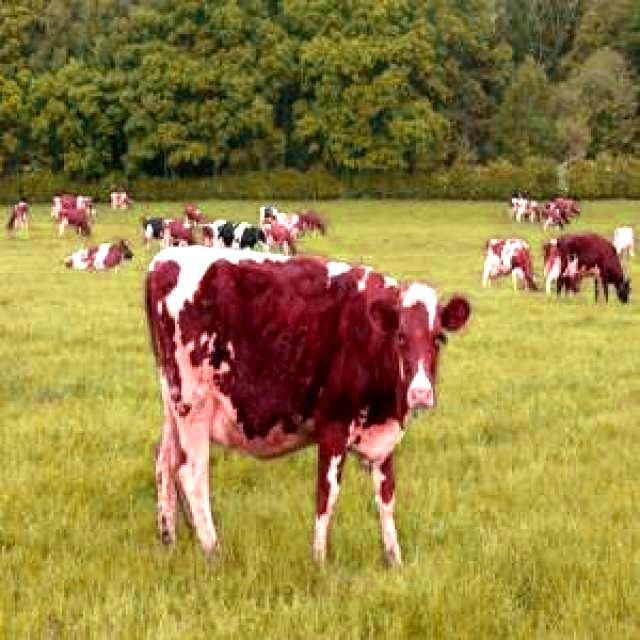COW: (146, 246, 470, 564)
